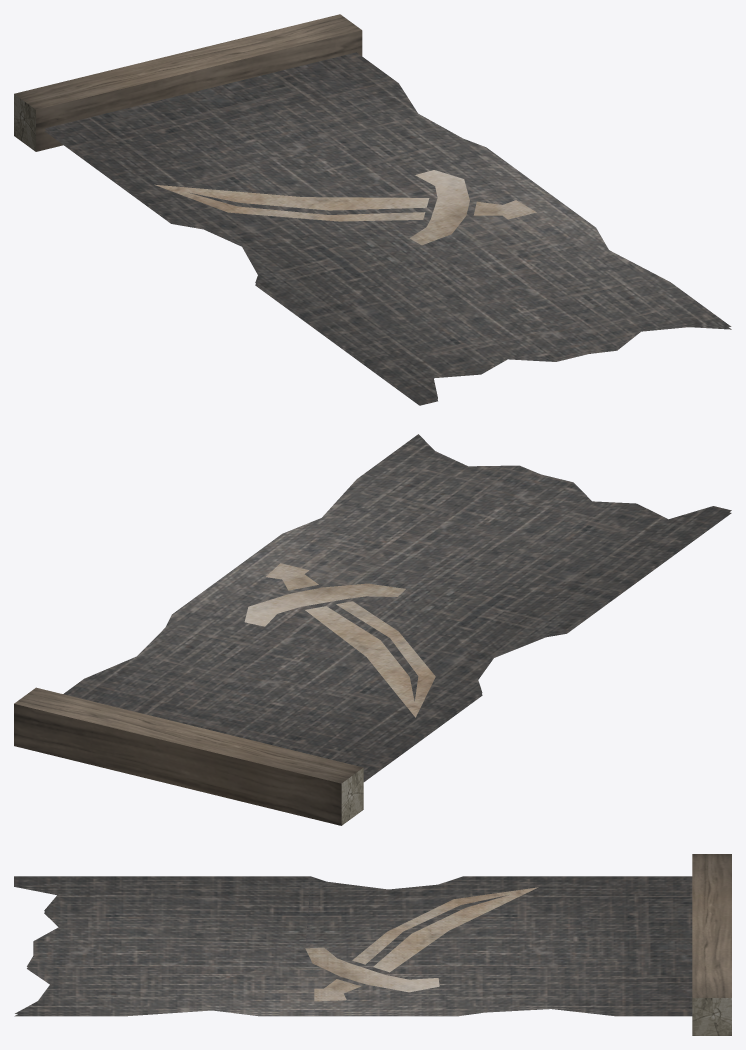
File: Pirate_Banner_Sword_A.fbx
3 views of the same model, one above another, from view 1: azimuth 30°, elevation 25°; view 2: azimuth 150°, elevation 25°; view 3: azimuth 270°, elevation 25° (orthographic). The views are drawn at different scales.
Parts seen in each view (by area): view 1: Pirate_Banner_Sword_A; view 2: Pirate_Banner_Sword_A; view 3: Pirate_Banner_Sword_A.
Part boxes in pixels (x1,y1,x2,y2): Pirate_Banner_Sword_A: [14, 14, 731, 405]; Pirate_Banner_Sword_A: [14, 434, 731, 825]; Pirate_Banner_Sword_A: [14, 854, 731, 1035].
Size of the model in its own units: 1.2 by 0.1485 by 2.54.
